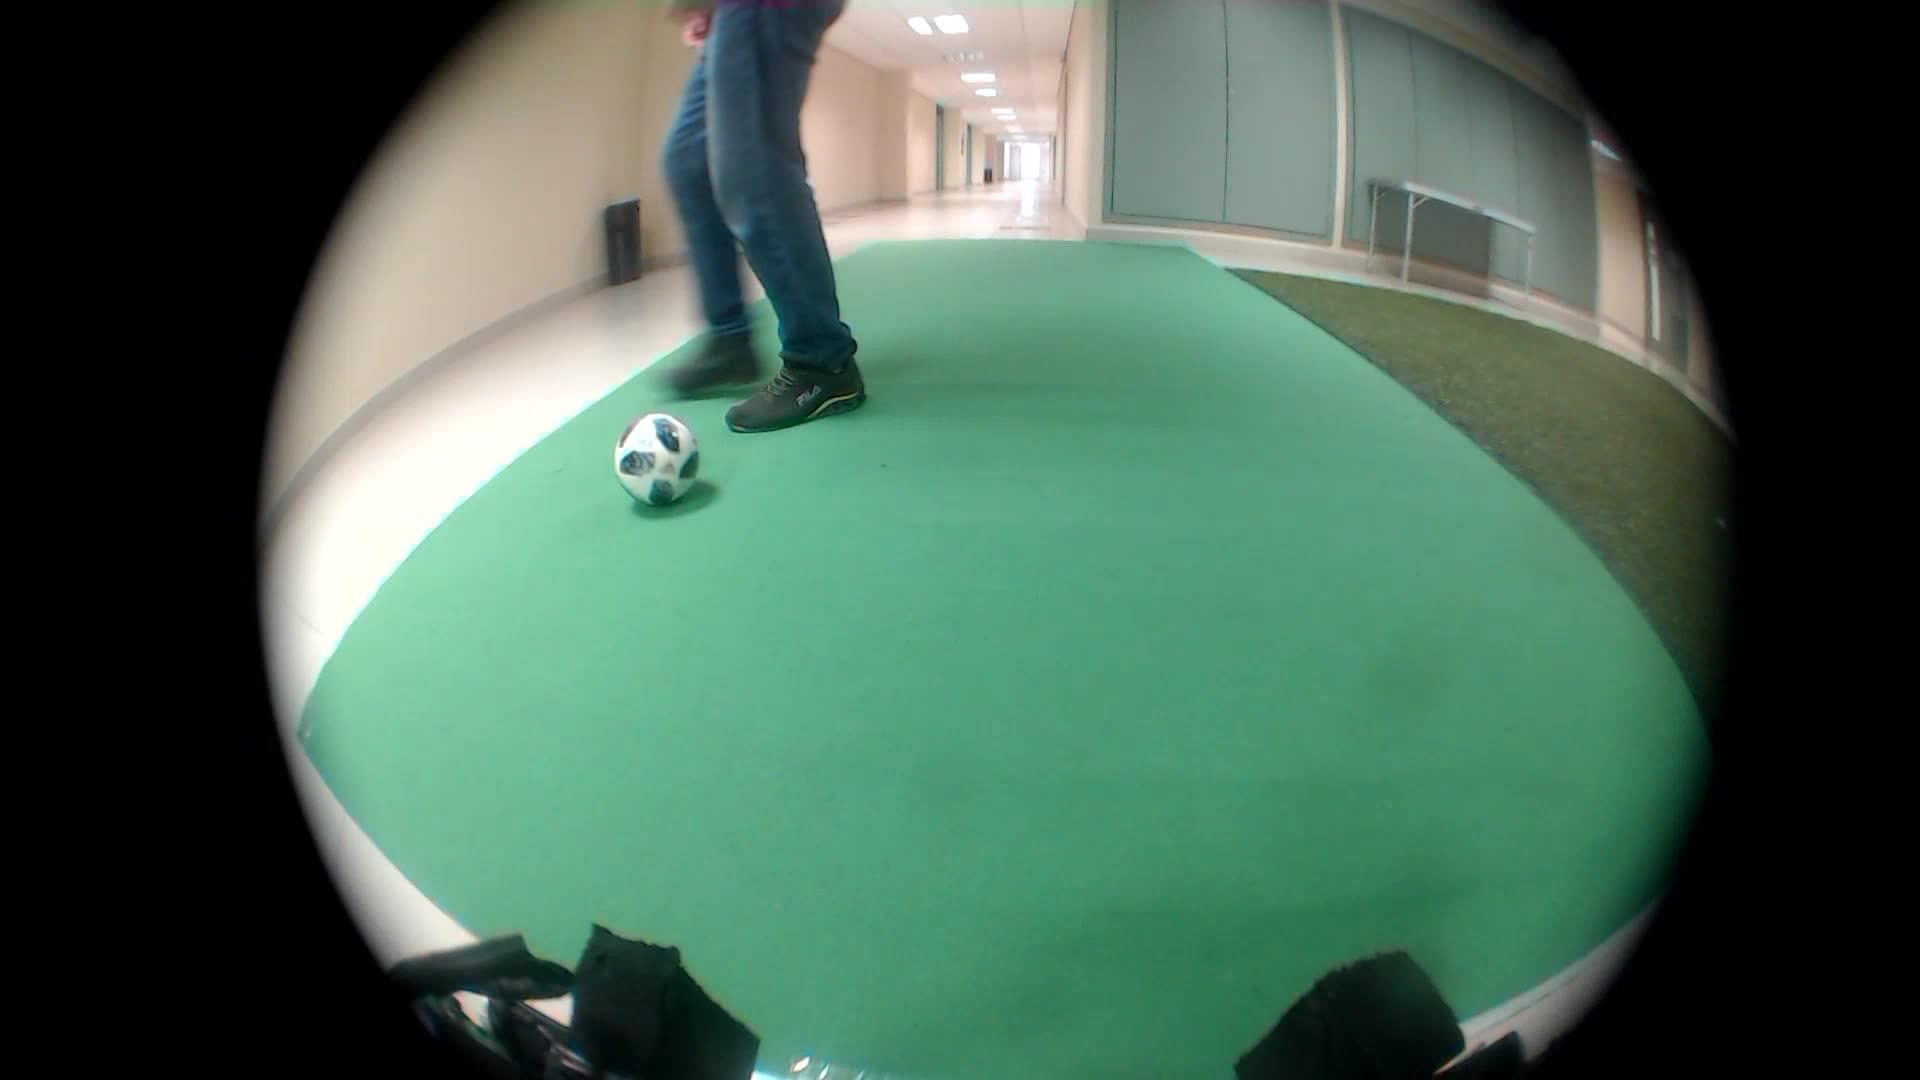ball: (603, 396, 717, 514)
